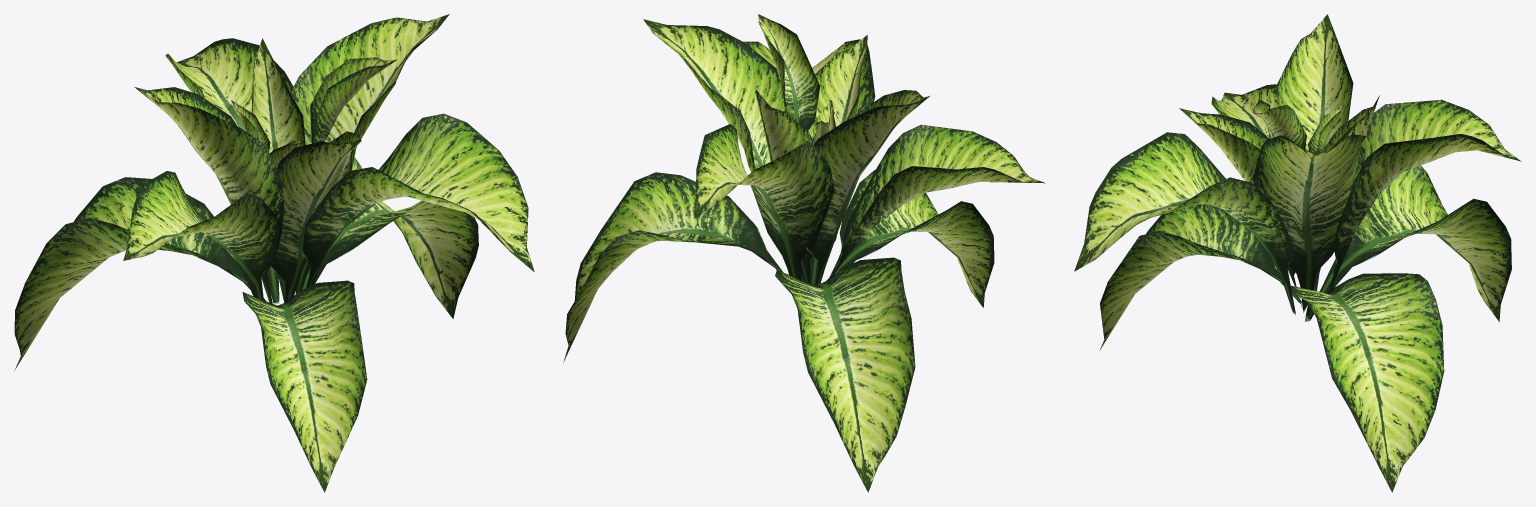
File: Aglaonema.fbx
3 views of the same model, side by side, from view 1: azimuth 30°, elevation 25°; view 2: azimuth 150°, elevation 25°; view 3: azimuth 270°, elevation 25° (orthographic). The views are drawn at different scales.
Visible parts, largest first — view 1: Group1, Group3, Group2; view 2: Group1, Group3, Group2; view 3: Group1, Group3, Group2.
Boxes of the visible parts, x1,y1,x2,y2 form: Group1: (14,14,534,492); Group3: (310,57,396,143); Group2: (231,100,304,168); Group1: (563,19,1045,492); Group3: (758,14,819,130); Group2: (812,100,835,143); Group1: (1074,14,1521,492); Group3: (1252,99,1306,149); Group2: (1267,104,1344,152).
Size of the model in its own units: 0.3785 by 0.2966 by 0.3734.
